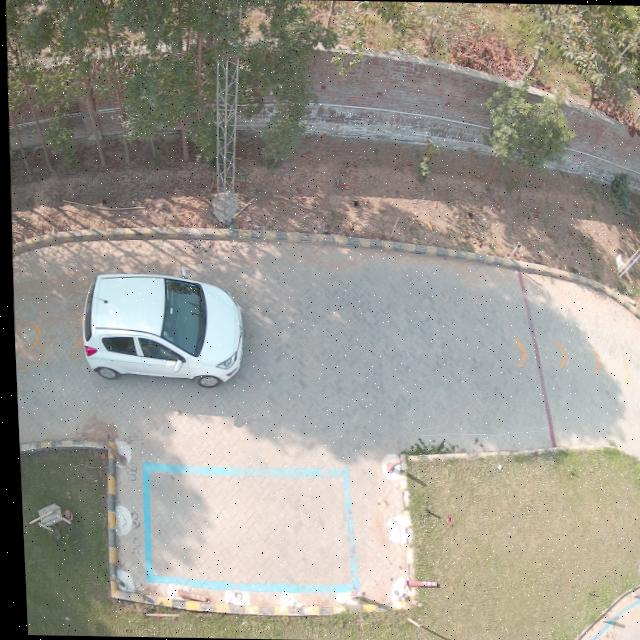car: (79, 273, 239, 386)
